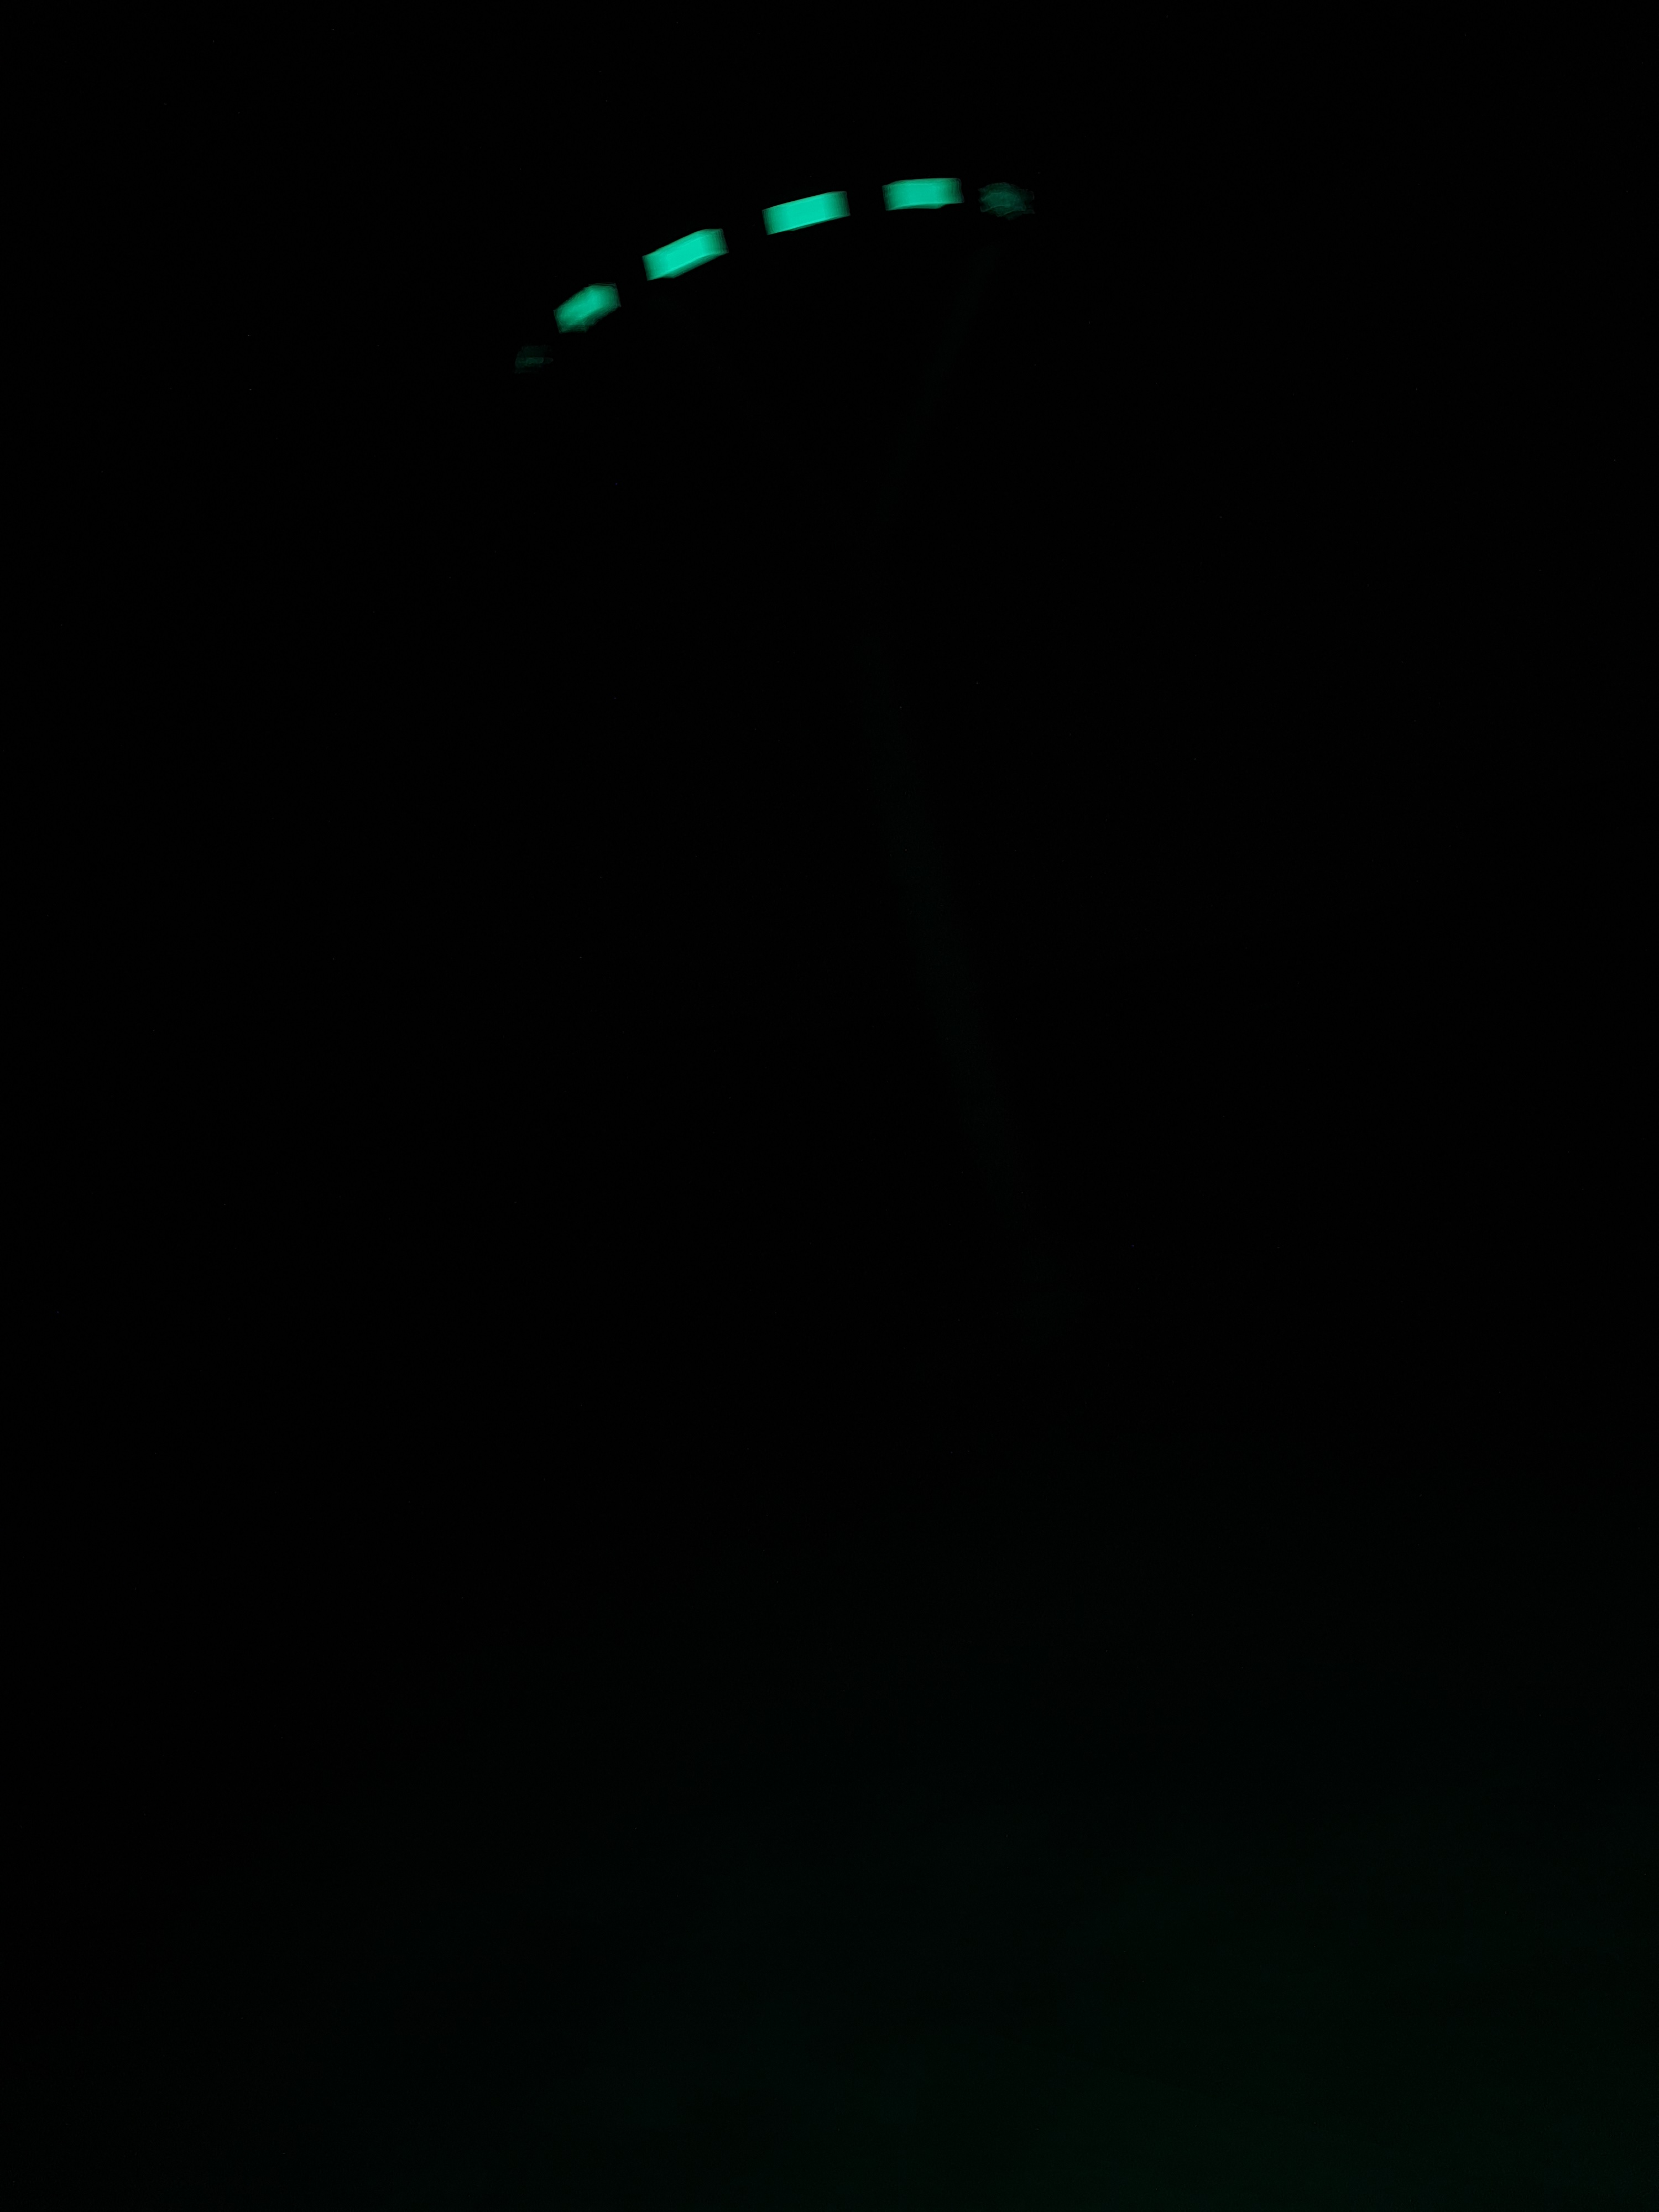hoop: (502, 165, 1033, 374)
